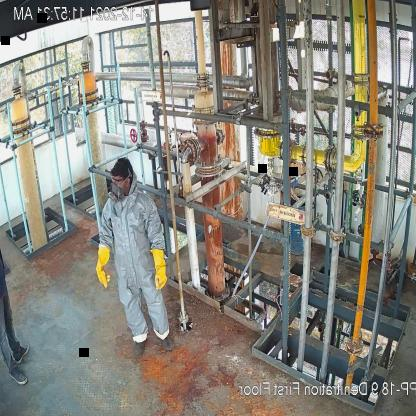mask: (108, 184, 124, 206)
